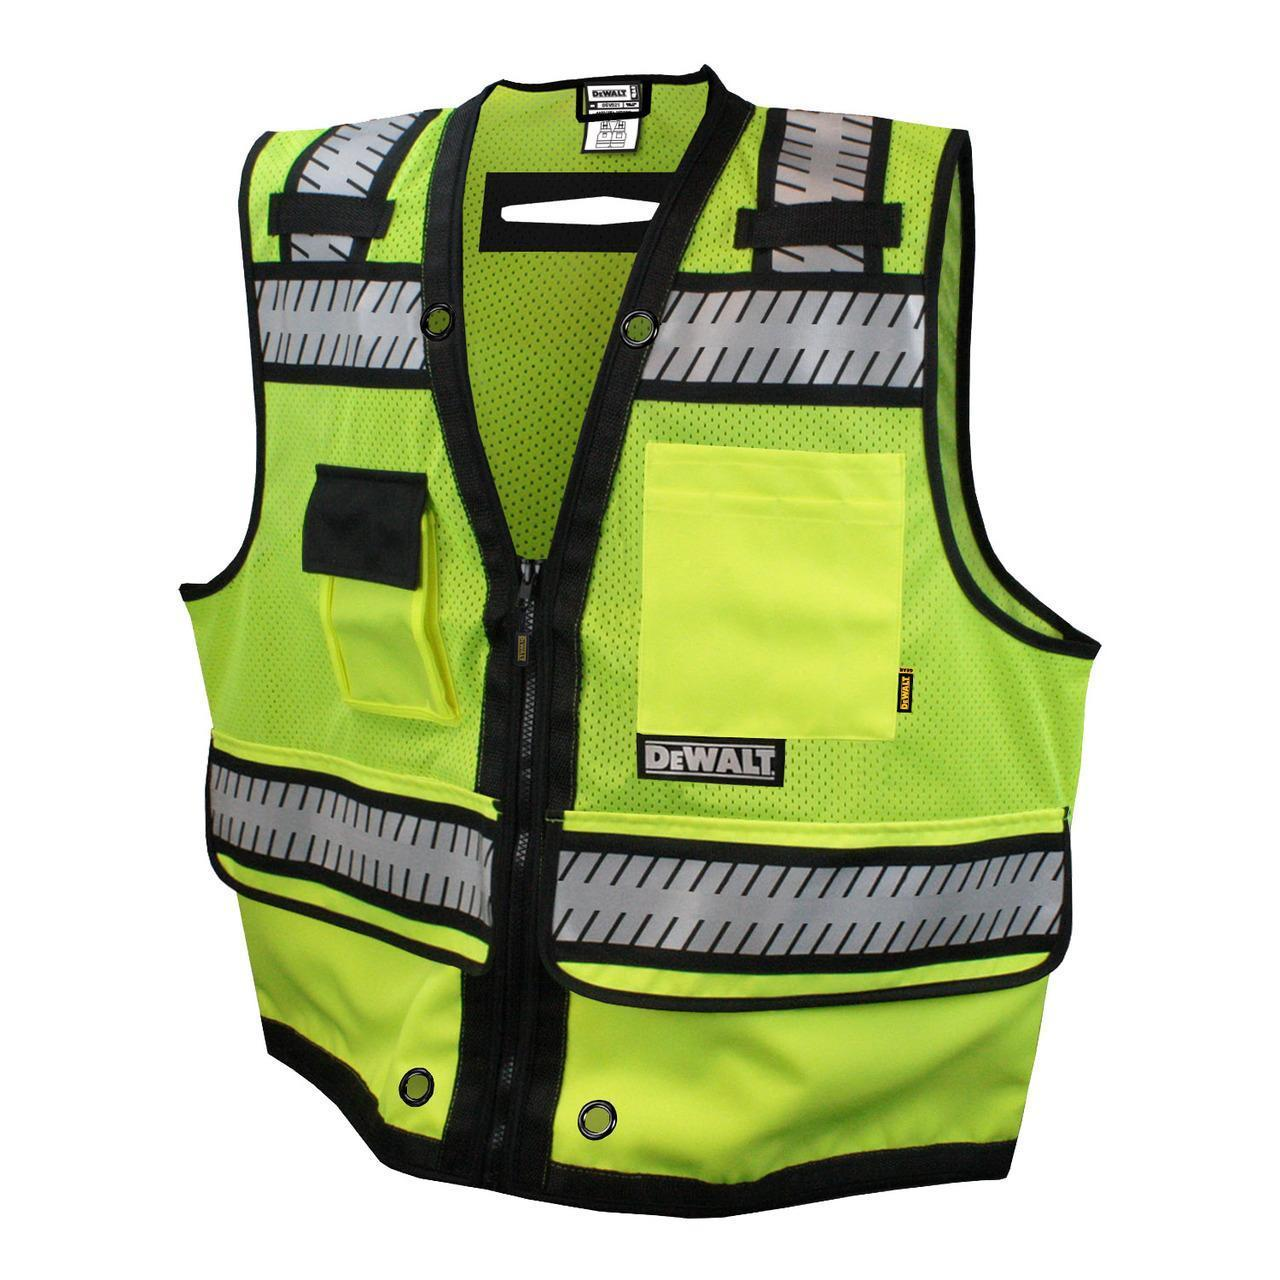vest: (173, 64, 1105, 1225)
